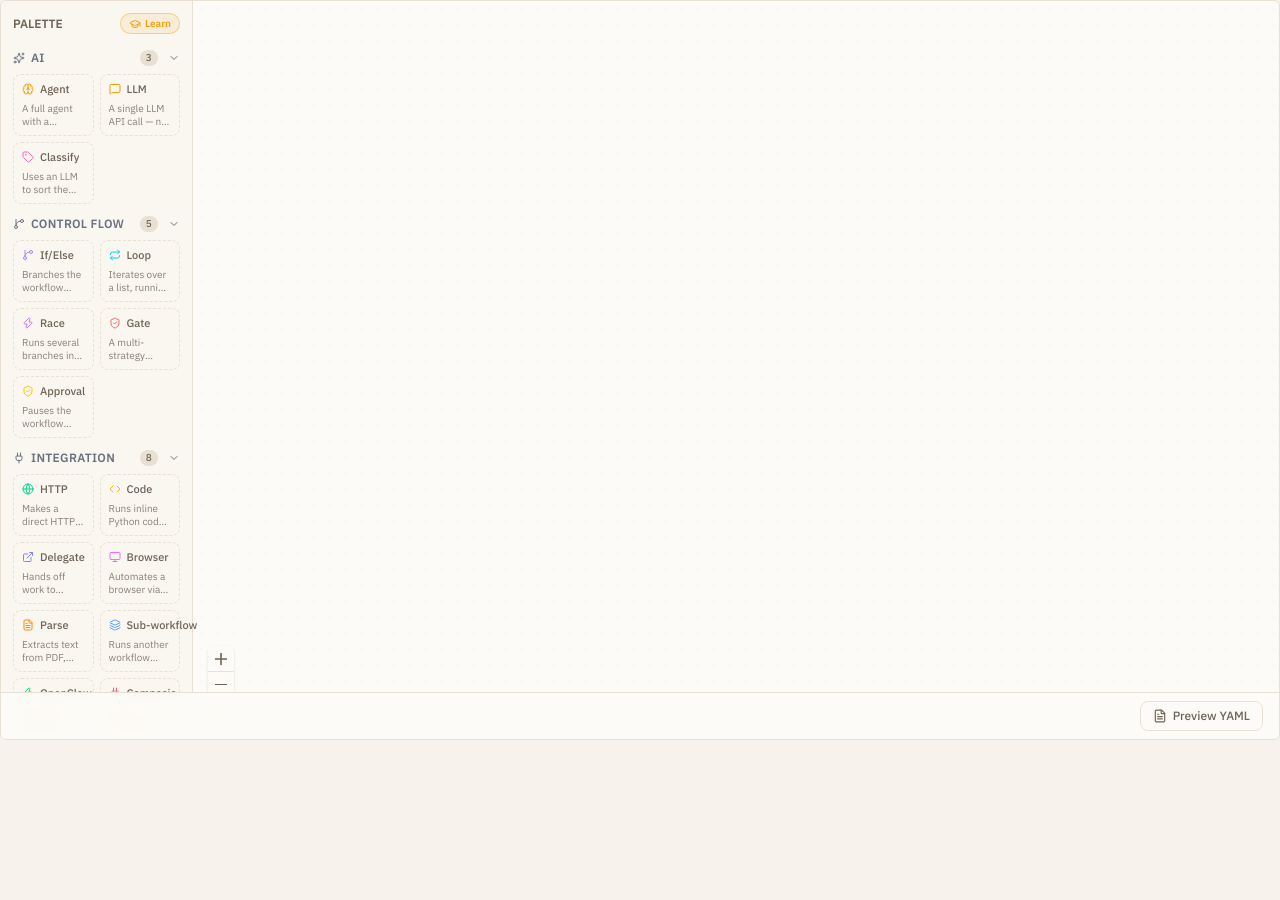
WorkflowBuilder palette — Learn mode toggle › toggling Learn off hides inline summaries and persists the choice
Click the switch labelled "Learn" at coordinates (150, 24), box x1=120 y1=13 x2=180 y2=34
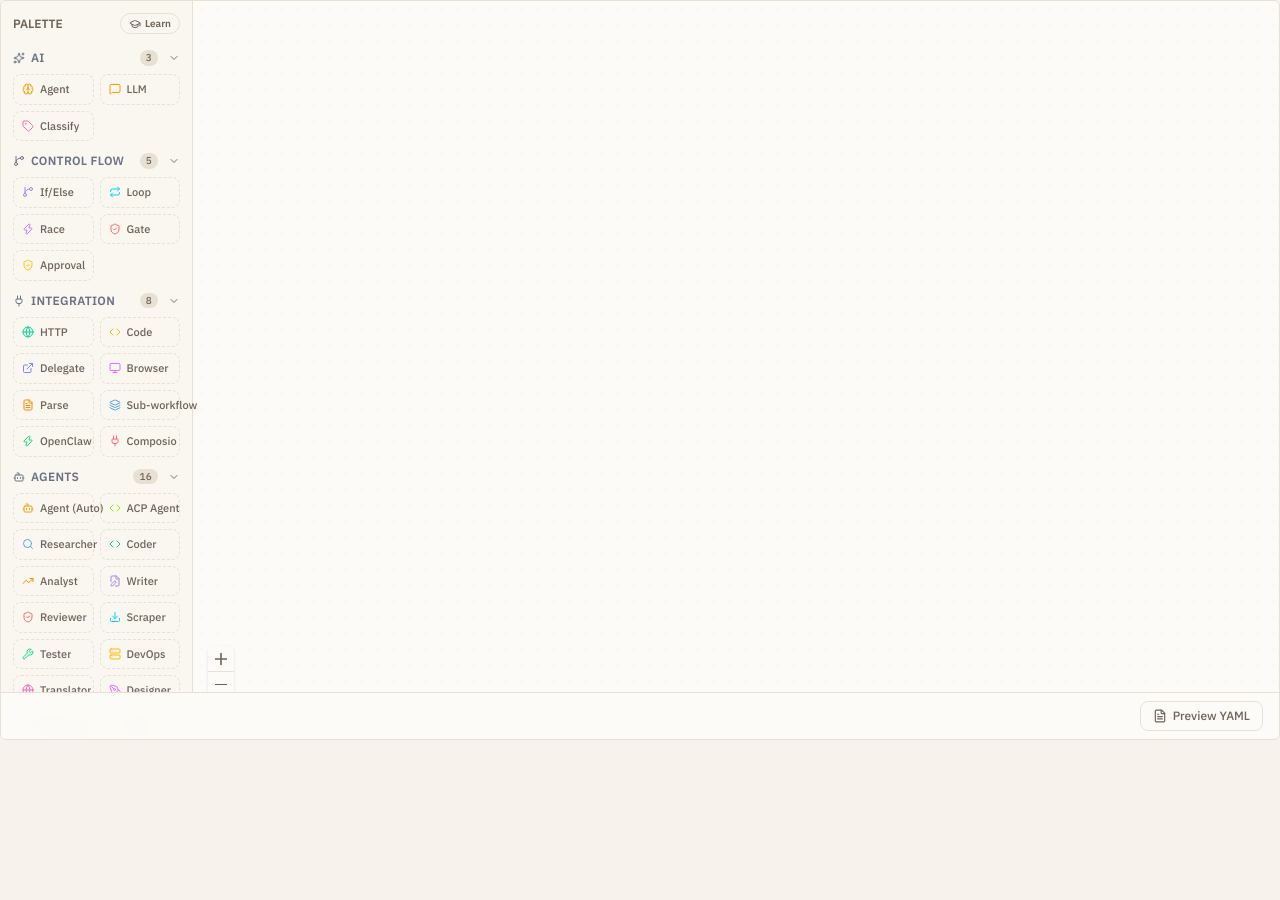
Expected: the button with aria-label "Add HTTP step" no longer shows "Makes a direct HTTP request to an API — no LLM is involved.", x1=13 y1=316 x2=94 y2=347
